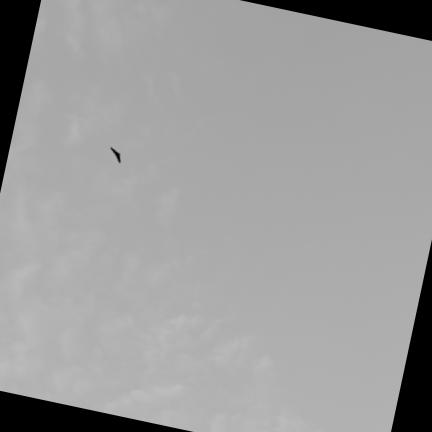Shahed: (112, 148, 120, 162)
